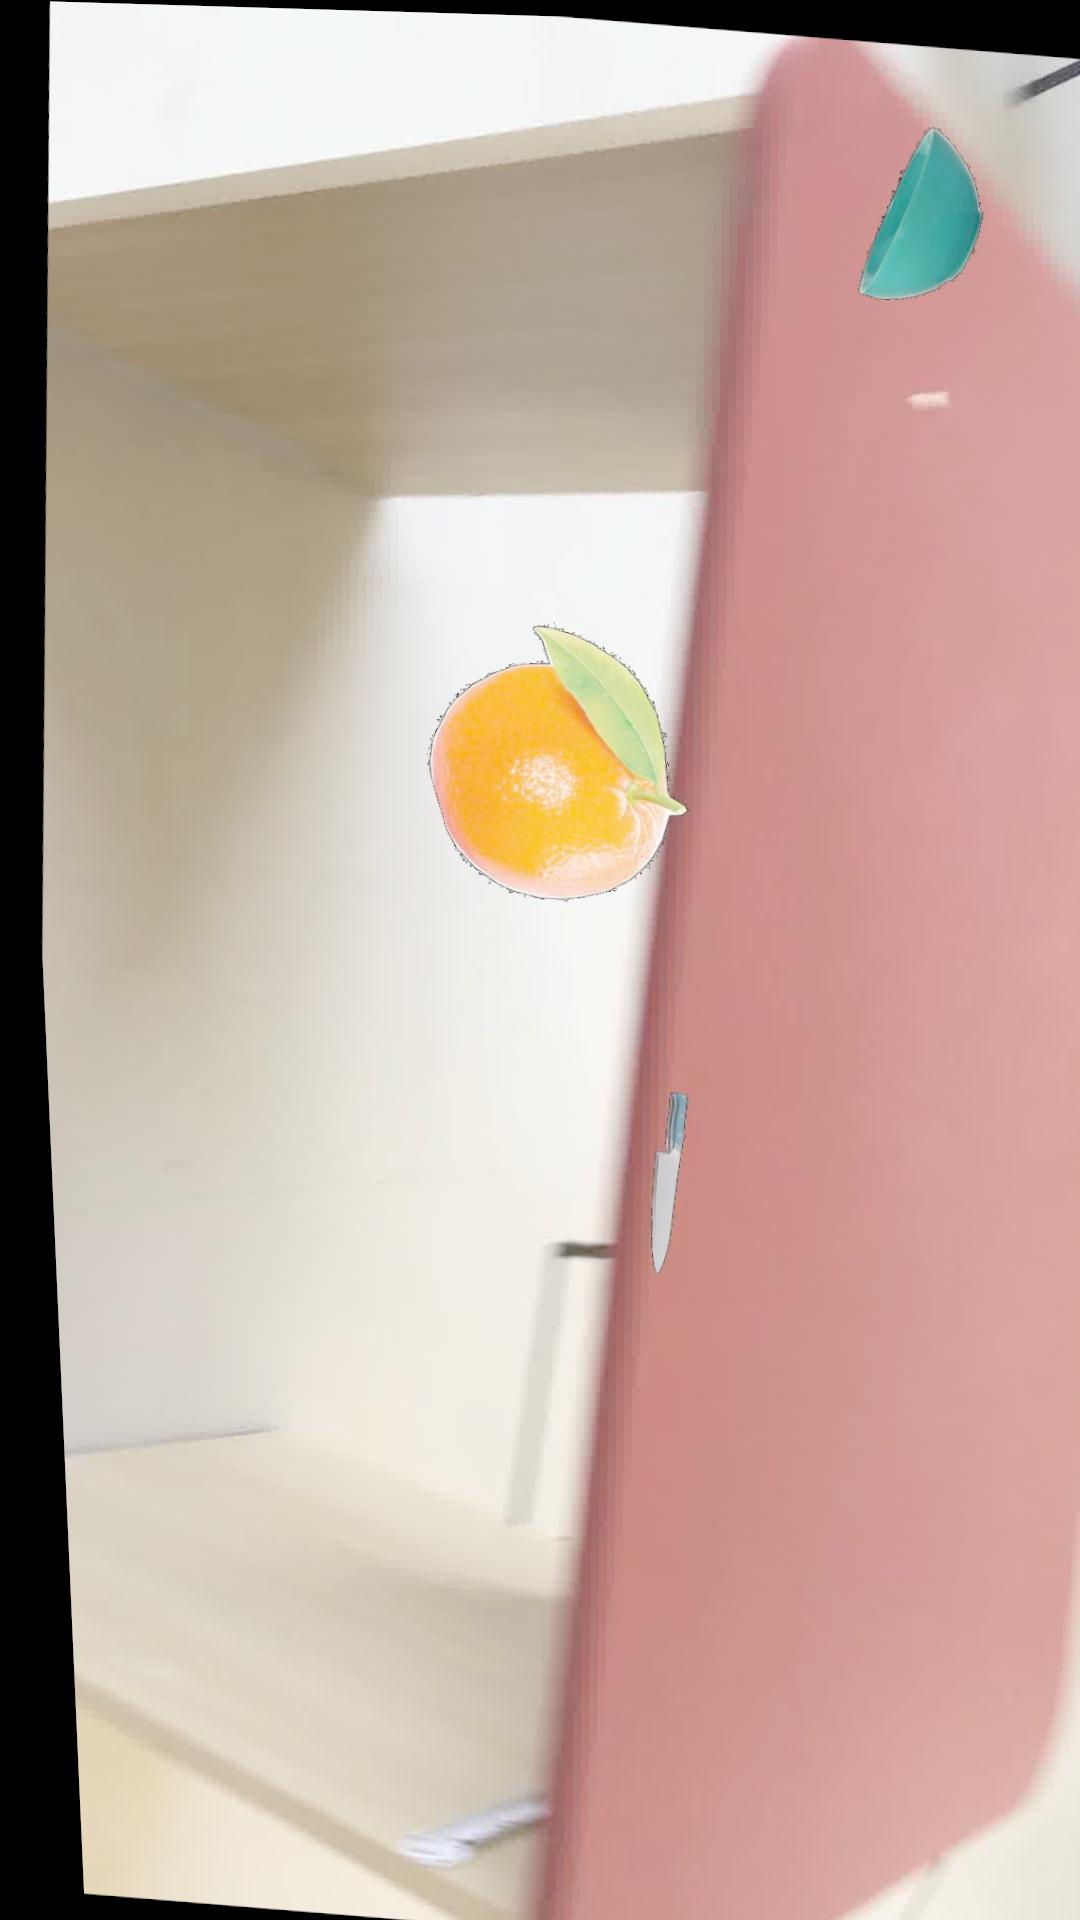bowl: (853, 123, 978, 295)
knife: (637, 1089, 676, 1271)
orange: (418, 622, 679, 898)
